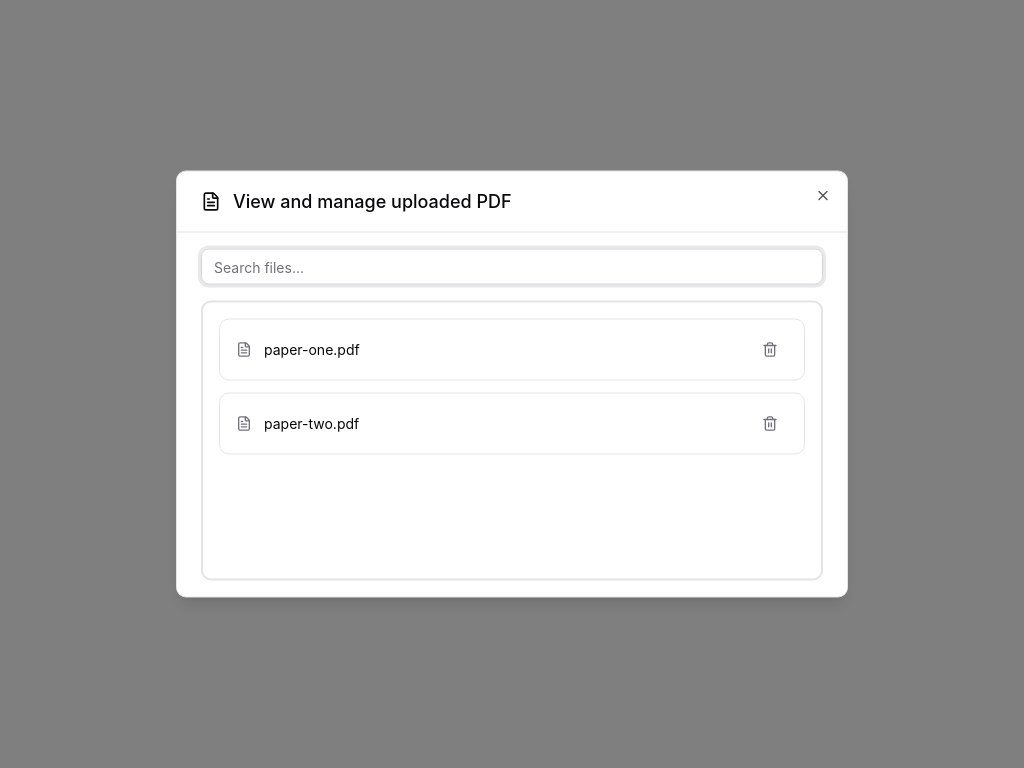
Test case: Components - SavedPDFDialog › should filter files by search input
This screenshot has width=1024, height=768.
Type "one" into the field with placeholder "Search files...".
click(512, 266); type("one")  # box [201,248,823,284]
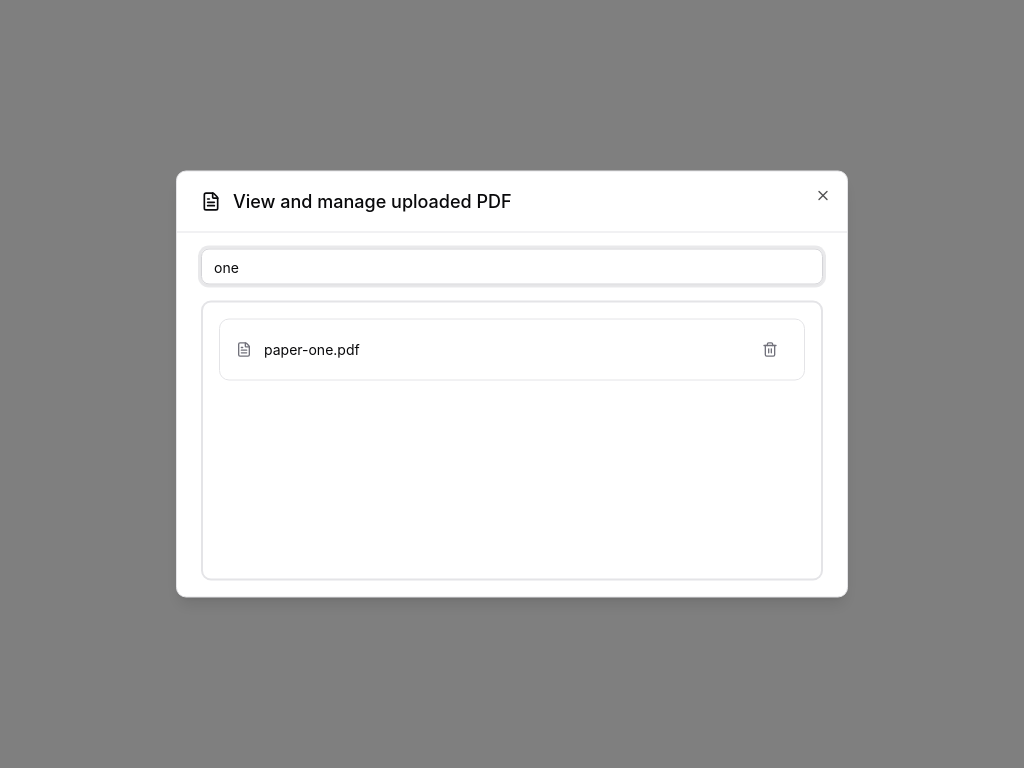
Expected: the text "paper-one.pdf" is shown, [264,340,360,358]
Expected: the text "paper-two.pdf" is gone
